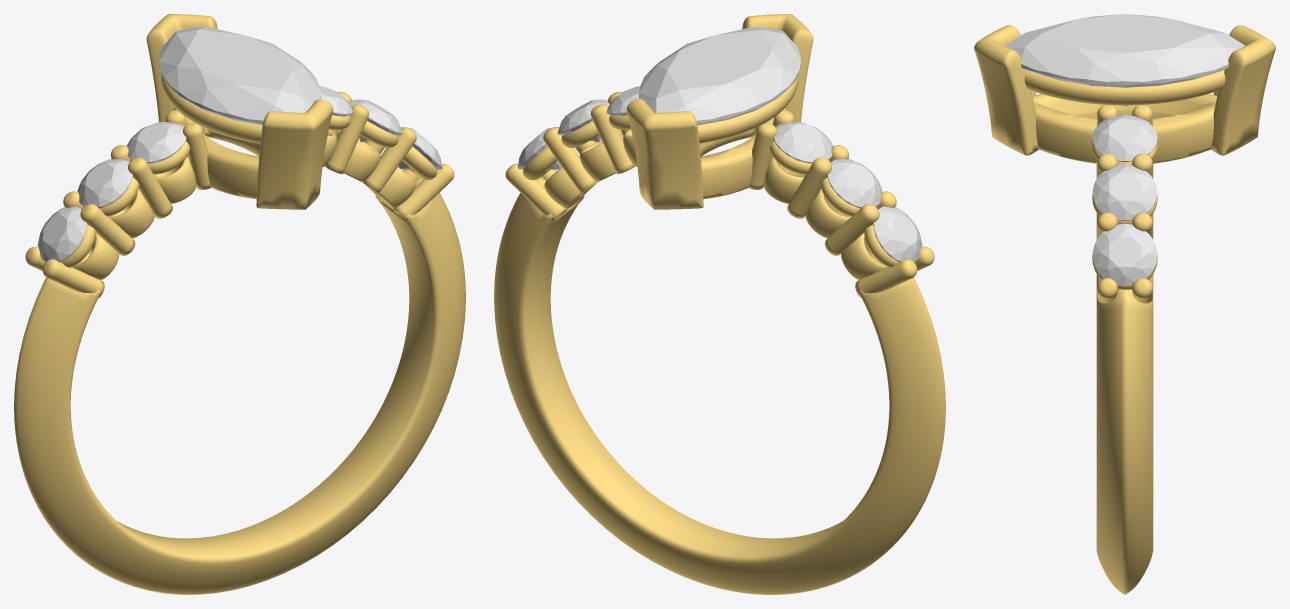
Rendered from diamond-marquise-yellowgold-protectededges2prongs-knifeedge-7stone.glb.
The picture shows the model from 3 angles, left to right: view 1: azimuth 30°, elevation 25°; view 2: azimuth 150°, elevation 25°; view 3: azimuth 270°, elevation 25°; orthographic projection.
Visible parts, largest first — view 1: metal, stone.002, dia.001, dia.009, dia.010, dia.012, dia.011; view 2: metal, stone.002, dia.001, dia.009, dia.010, dia.012, dia.011; view 3: metal, stone.002, dia.011, dia.012, dia.013.
Part boxes in pixels (bbox=[...]): metal: bbox=[14, 14, 465, 594]; stone.002: bbox=[159, 26, 320, 125]; dia.001: bbox=[37, 206, 86, 262]; dia.009: bbox=[77, 159, 132, 208]; dia.010: bbox=[126, 122, 186, 163]; dia.012: bbox=[350, 99, 402, 142]; dia.011: bbox=[398, 127, 442, 169]; metal: bbox=[494, 14, 945, 594]; stone.002: bbox=[639, 26, 800, 125]; dia.001: bbox=[873, 206, 922, 262]; dia.009: bbox=[827, 159, 882, 208]; dia.010: bbox=[773, 122, 833, 163]; dia.012: bbox=[557, 99, 609, 142]; dia.011: bbox=[517, 127, 561, 169]; metal: bbox=[974, 25, 1275, 594]; stone.002: bbox=[1004, 14, 1245, 106]; dia.011: bbox=[1092, 223, 1157, 286]; dia.012: bbox=[1092, 164, 1157, 220]; dia.013: bbox=[1092, 114, 1157, 162].
Bounding box in the file's own units: 20.5 × 22.93 × 11.69.
